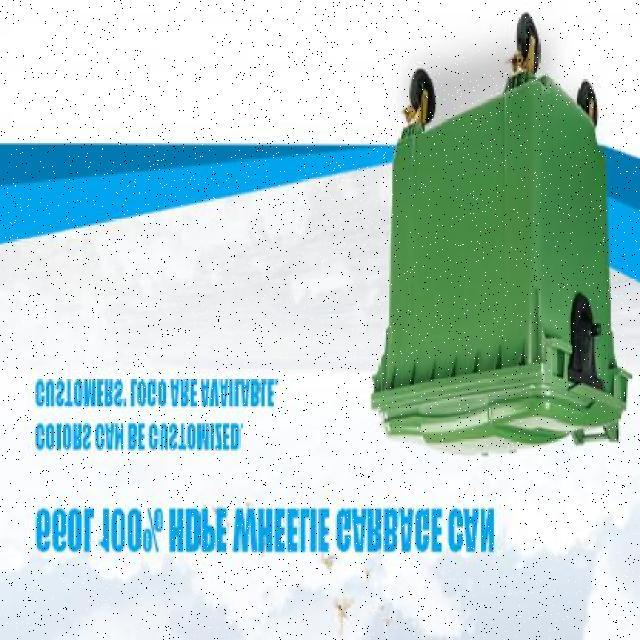garbage container: (365, 2, 640, 465)
